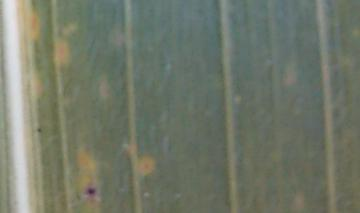tarspot: (84, 186, 97, 196), (35, 126, 42, 134)
